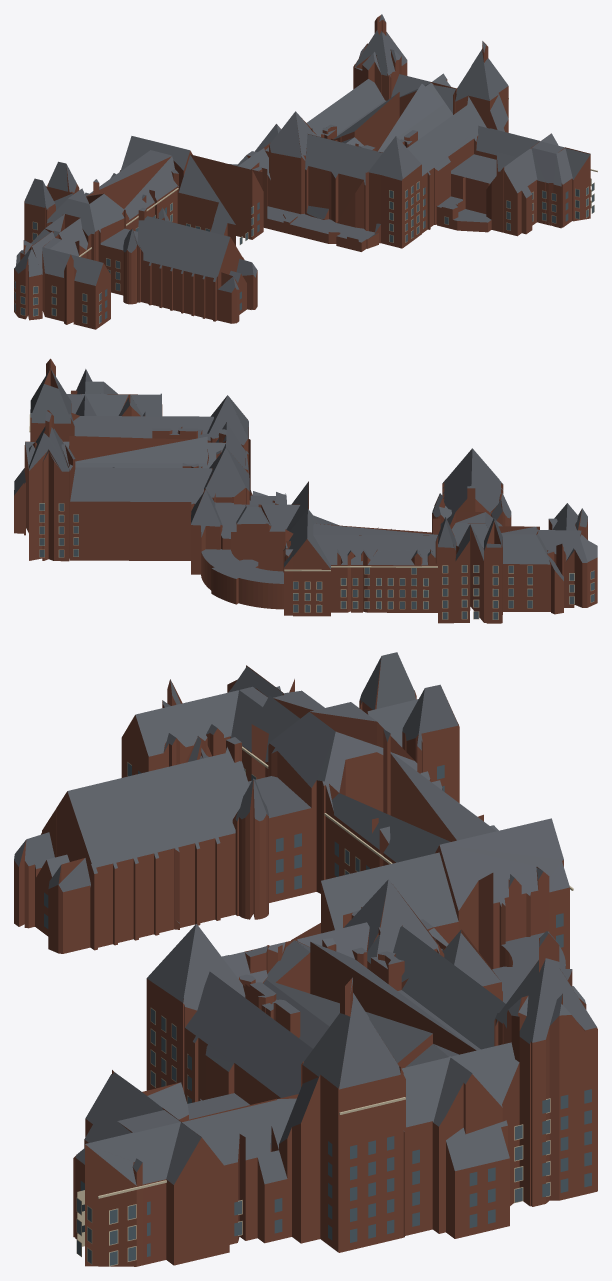
Rendered from royal-tropical-institute.glb.
The picture shows the model from 3 angles, top to bottom: view 1: azimuth 30°, elevation 25°; view 2: azimuth 150°, elevation 25°; view 3: azimuth 270°, elevation 25°; orthographic projection. The views are drawn at different scales.
Parts seen in each view (by area): view 1: royal-tropical-institute; view 2: royal-tropical-institute; view 3: royal-tropical-institute.
Part boxes in pixels (x1,y1,x2,y2): royal-tropical-institute: (14,14,597,329); royal-tropical-institute: (14,358,597,623); royal-tropical-institute: (14,652,597,1266).
Bounding box in the file's own units: 189 × 45.28 × 93.68.
